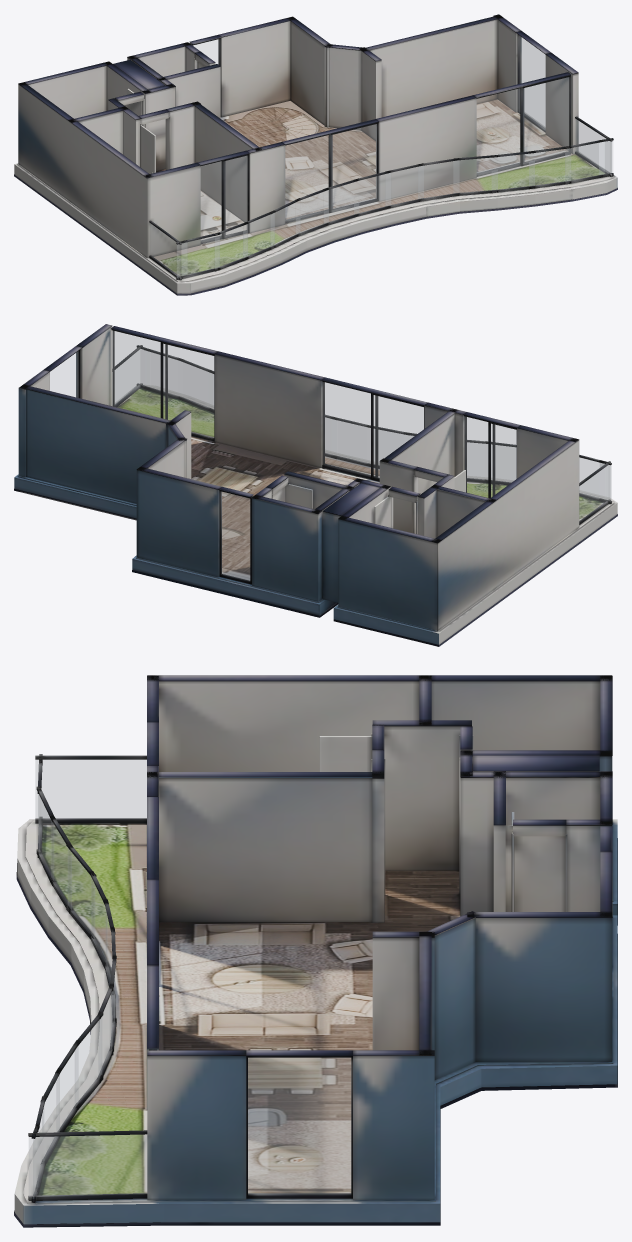
3 views of the same model, one above another, from view 1: azimuth 30°, elevation 25°; view 2: azimuth 150°, elevation 25°; view 3: azimuth 270°, elevation 25° (orthographic). The views are drawn at different scales.
Visible parts, largest first — view 1: plan, glass2_m, glass1_m, glass0_m, glass3_m, railg5_m, railg4_m, railg3_m, railg6_m, railg2_m, railg7_m, railg14_m (+9 smaller); view 2: plan, glass2_m, glass1_m, glass0_m, glass4_m, railg16_m, railg8_m, glass3_m, railg3_m, railg0_m, railg2_m, railg13_m (+3 smaller); view 3: plan, glass3_m, railg0_m, railg16_m, railg5_m, railg12_m, railg4_m, railg13_m, railg11_m, railg10_m, railg3_m, railg6_m.
Part boxes in pixels (bbox=[...]): plan: bbox=[14, 14, 617, 295]; glass2_m: bbox=[477, 77, 568, 173]; glass1_m: bbox=[285, 124, 376, 220]; glass0_m: bbox=[201, 156, 247, 241]; glass3_m: bbox=[519, 36, 545, 128]; railg5_m: bbox=[454, 157, 497, 193]; railg4_m: bbox=[492, 153, 534, 190]; railg3_m: bbox=[529, 148, 570, 186]; railg6_m: bbox=[418, 160, 459, 198]; railg2_m: bbox=[565, 142, 604, 181]; railg7_m: bbox=[385, 166, 423, 205]; railg14_m: bbox=[182, 235, 219, 275]; plan: bbox=[14, 324, 617, 646]; glass2_m: bbox=[112, 331, 213, 437]; glass1_m: bbox=[323, 382, 423, 477]; glass0_m: bbox=[465, 417, 516, 497]; glass4_m: bbox=[221, 492, 249, 580]; railg16_m: bbox=[579, 465, 609, 521]; railg8_m: bbox=[338, 421, 366, 462]; glass3_m: bbox=[50, 351, 78, 397]; railg3_m: bbox=[183, 363, 208, 407]; railg0_m: bbox=[115, 350, 139, 404]; railg2_m: bbox=[151, 353, 177, 395]; railg13_m: bbox=[496, 445, 515, 482]; plan: bbox=[14, 675, 617, 1227]; glass3_m: bbox=[248, 1058, 350, 1194]; railg0_m: bbox=[29, 1134, 146, 1196]; railg16_m: bbox=[35, 760, 146, 818]; railg5_m: bbox=[75, 1017, 101, 1106]; railg12_m: bbox=[68, 848, 94, 937]; railg4_m: bbox=[56, 1046, 78, 1131]; railg13_m: bbox=[51, 821, 71, 909]; railg11_m: bbox=[91, 878, 107, 964]; railg10_m: bbox=[38, 794, 53, 880]; railg3_m: bbox=[42, 1075, 59, 1158]; railg6_m: bbox=[98, 992, 112, 1077].
Bounding box in the file's own units: 12.94 × 2.62 × 8.55.
Materials: 2 (1 with a texture image).
